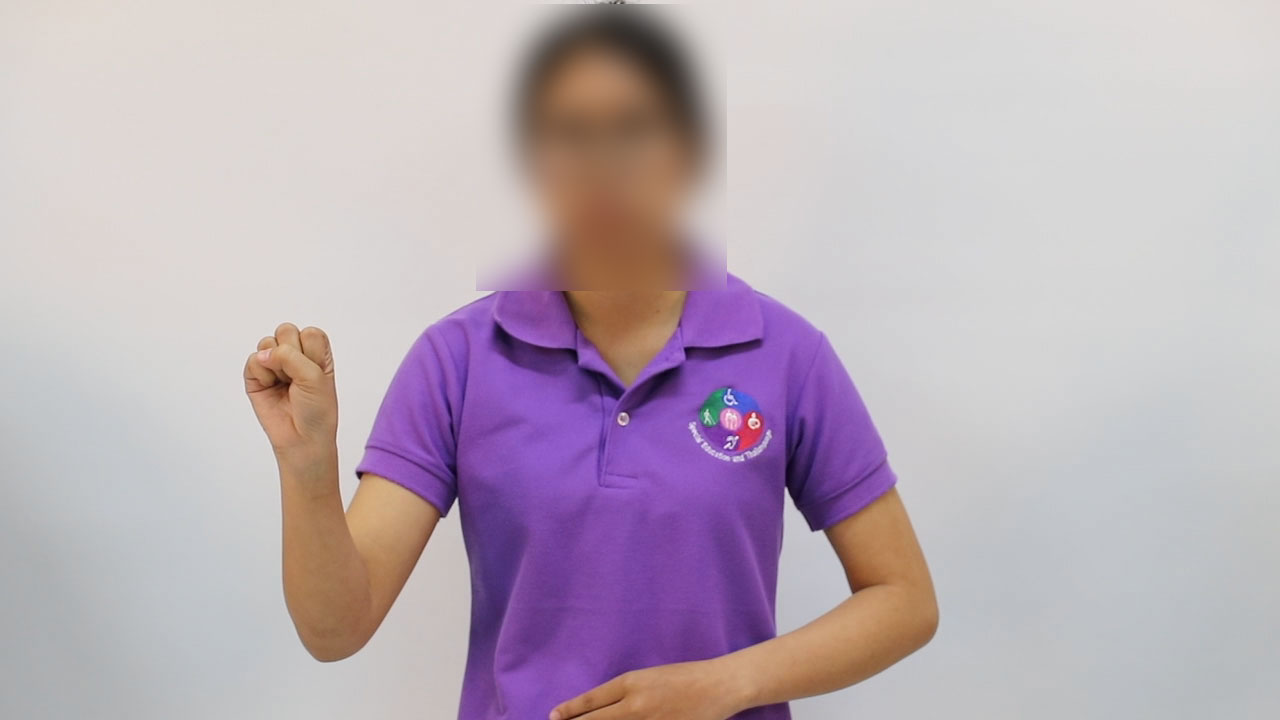sor: (223, 308, 362, 460)
